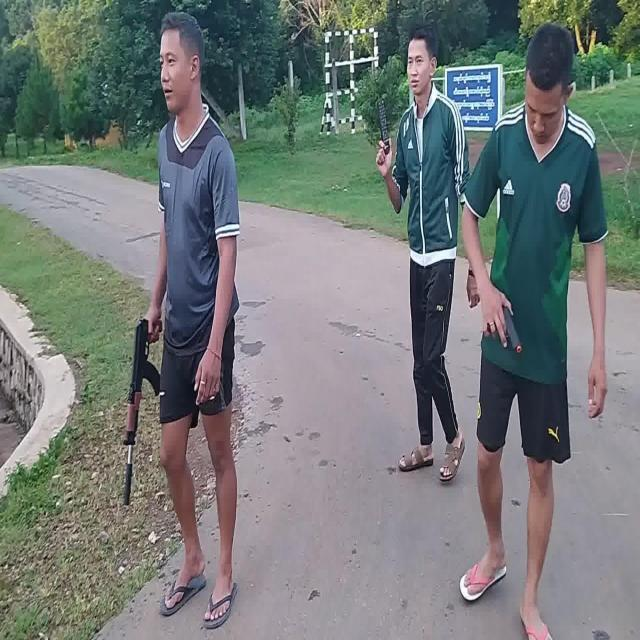gun: (124, 320, 162, 500), (487, 306, 521, 350)
